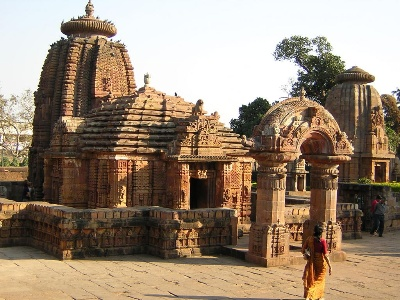amalaka: (61, 12, 126, 38)
gopuram: (33, 35, 143, 136)
torana: (246, 81, 348, 240)
